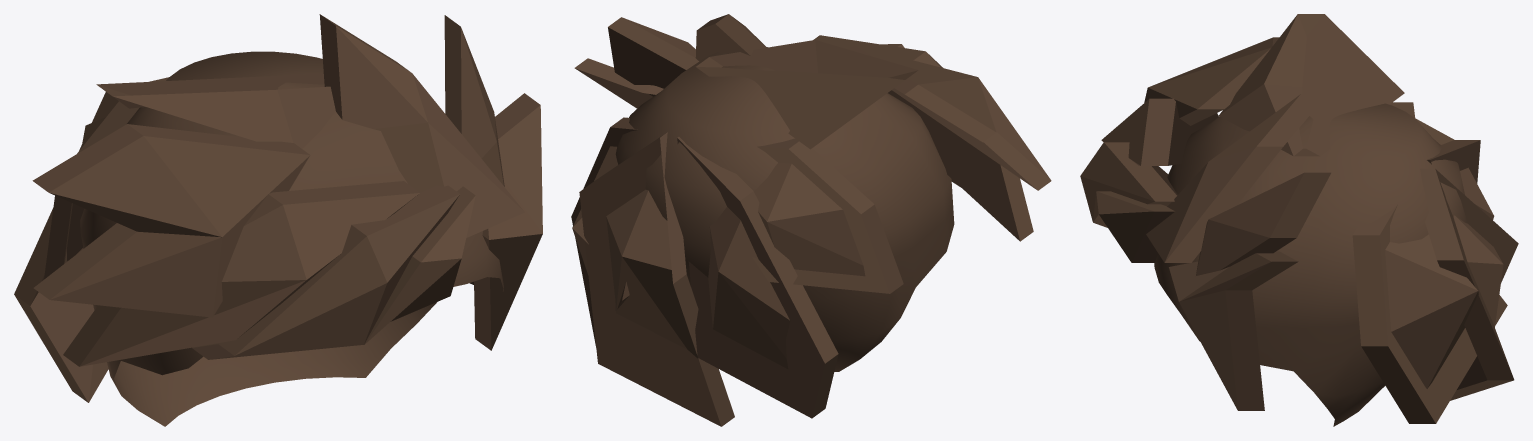
Rendered from hair-sweep.glb.
3 renders of one model, left to right at view 1: azimuth 30°, elevation 25°; view 2: azimuth 150°, elevation 25°; view 3: azimuth 270°, elevation 25°, orthographic. The views are drawn at different scales.
Visible parts, largest first — view 1: hair-sweep_ref2_hair-sweep__head_mesh; view 2: hair-sweep_ref2_hair-sweep__head_mesh; view 3: hair-sweep_ref2_hair-sweep__head_mesh.
Part boxes in pixels (left/top/right/bottom): hair-sweep_ref2_hair-sweep__head_mesh: left=14, top=14, right=542, bottom=426; hair-sweep_ref2_hair-sweep__head_mesh: left=571, top=14, right=1051, bottom=426; hair-sweep_ref2_hair-sweep__head_mesh: left=1080, top=14, right=1518, bottom=426.
Size of the model in its own units: 0.594 by 0.445 by 0.52.
